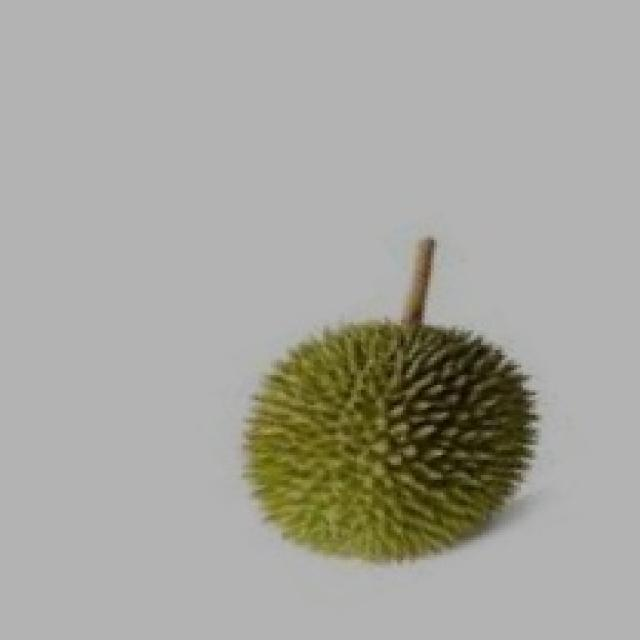fruit: (203, 288, 569, 598)
